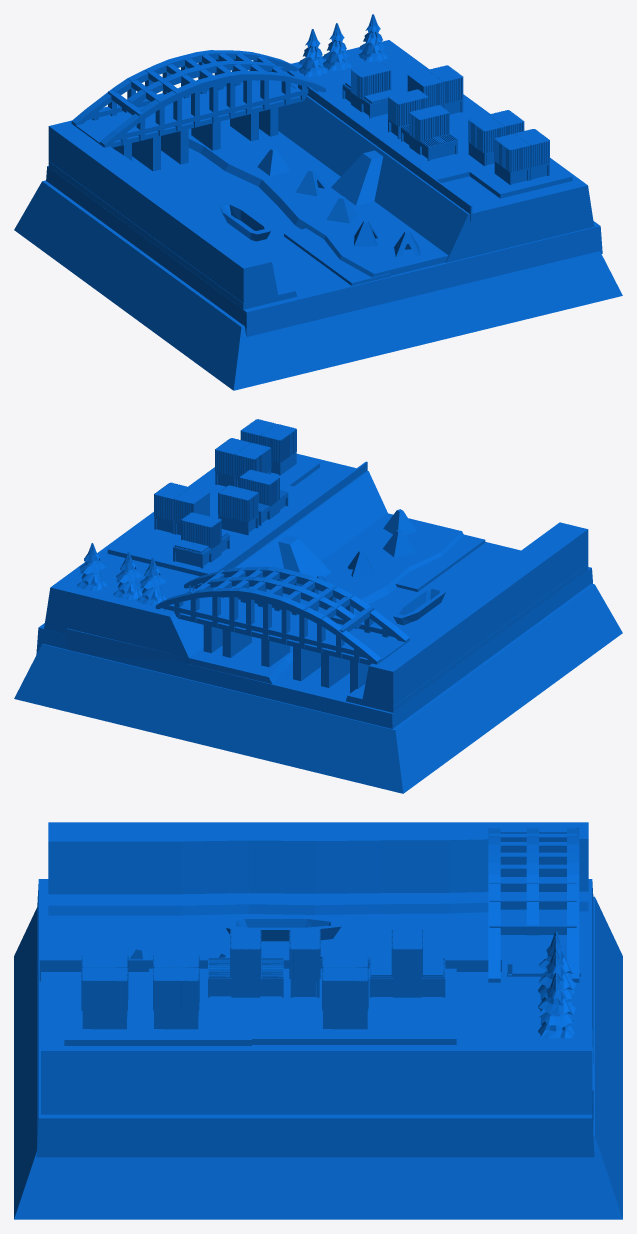
File: morioka-blue.glb
3 renders of one model, top to bottom at view 1: azimuth 30°, elevation 25°; view 2: azimuth 150°, elevation 25°; view 3: azimuth 270°, elevation 25°, orthographic. The views are drawn at different scales.
Parts seen in each view (by area): view 1: かわまち3D_Town_盛岡_for_テクスチャ; view 2: かわまち3D_Town_盛岡_for_テクスチャ; view 3: かわまち3D_Town_盛岡_for_テクスチャ.
Boxes of the visible parts, <box> form: かわまち3D_Town_盛岡_for_テクスチャ: <box>14,14,622,390</box>; かわまち3D_Town_盛岡_for_テクスチャ: <box>14,419,622,793</box>; かわまち3D_Town_盛岡_for_テクスチャ: <box>14,822,622,1219</box>.
Size of the model in its own units: 6.64 by 2.47 by 6.49.
